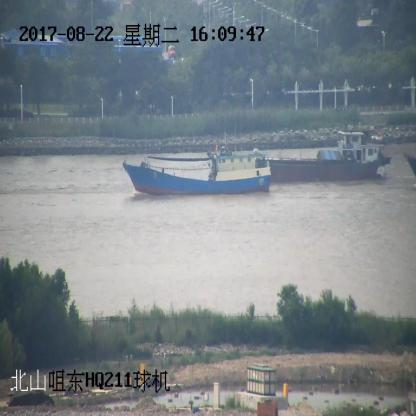Bulk Carrier: (208, 128, 390, 184)
